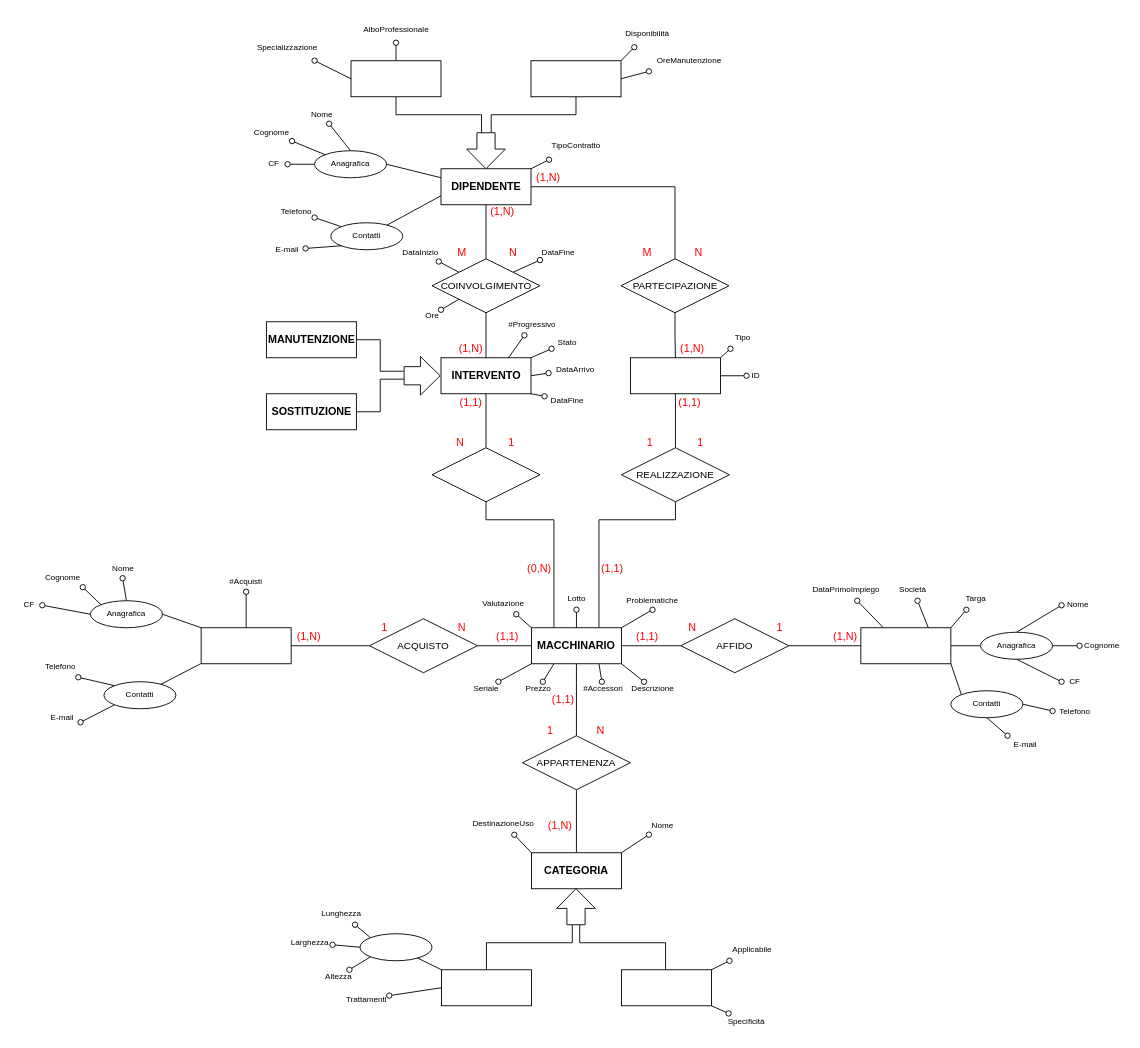
Some shapes in this 1140 by 1048 pixel diagram are drawn without their labels. Each missing label, with the centre of its shape:
ACCESSORIA: the point at 666,987
BASE: the point at 486,987
CLIENTE: the point at 245,645
CORRIERE: the point at 905,645
Dimensioni: the point at 395,947
ESECUZIONE: the point at 485,474
INGEGNERE: the point at 395,78
OPERAIO: the point at 575,78
PROGETTO: the point at 675,375
